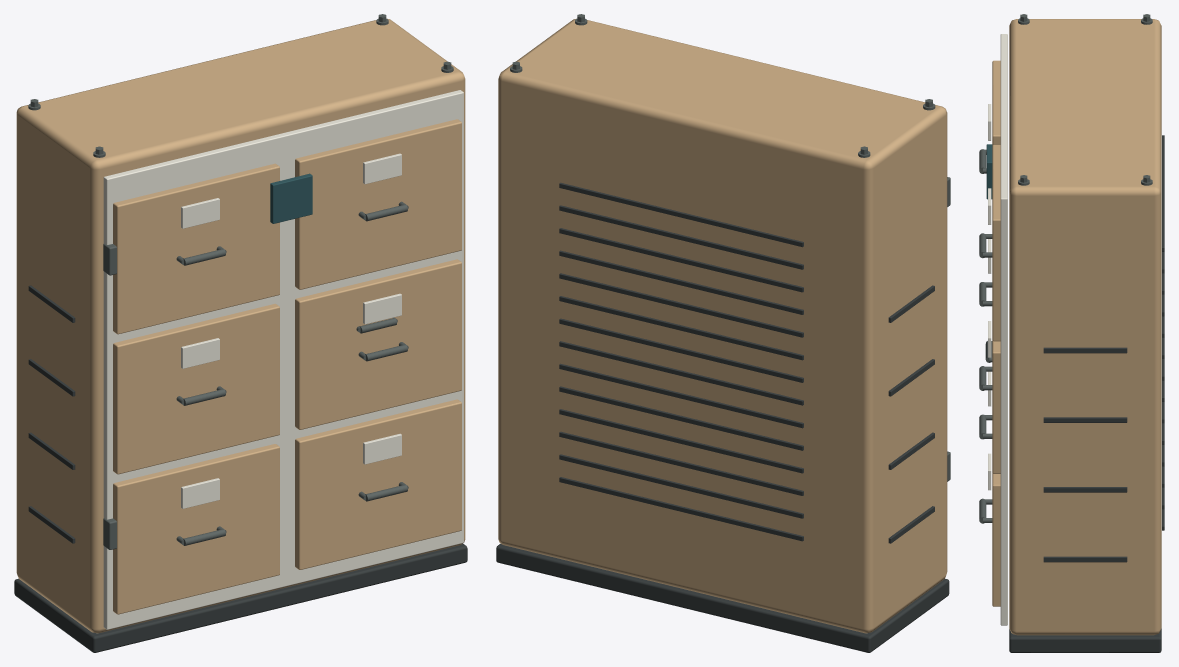
The model's file is public-library-and-reading-garden-public-library-and-r-a42095f0__30912.glb.
3 views of the same model, side by side, from view 1: azimuth 30°, elevation 25°; view 2: azimuth 150°, elevation 25°; view 3: azimuth 270°, elevation 25° (orthographic). The views are drawn at different scales.
Parts seen in each view (by area): view 1: public-library-and-reading-garden-reservation-pickup-locker_ (×5); view 2: public-library-and-reading-garden-reservation-pickup-locker_ (×3); view 3: public-library-and-reading-garden-reservation-pickup-locker_ (×5).
Boxes of the visible parts, <box> form: public-library-and-reading-garden-reservation-pickup-locker_ (×5): <box>14,14,467,652</box>; public-library-and-reading-garden-reservation-pickup-locker_ (×3): <box>496,14,950,652</box>; public-library-and-reading-garden-reservation-pickup-locker_ (×5): <box>979,14,1164,652</box>.
Bounding box in the file's own units: 1.42 × 1.77 × 0.6325.
